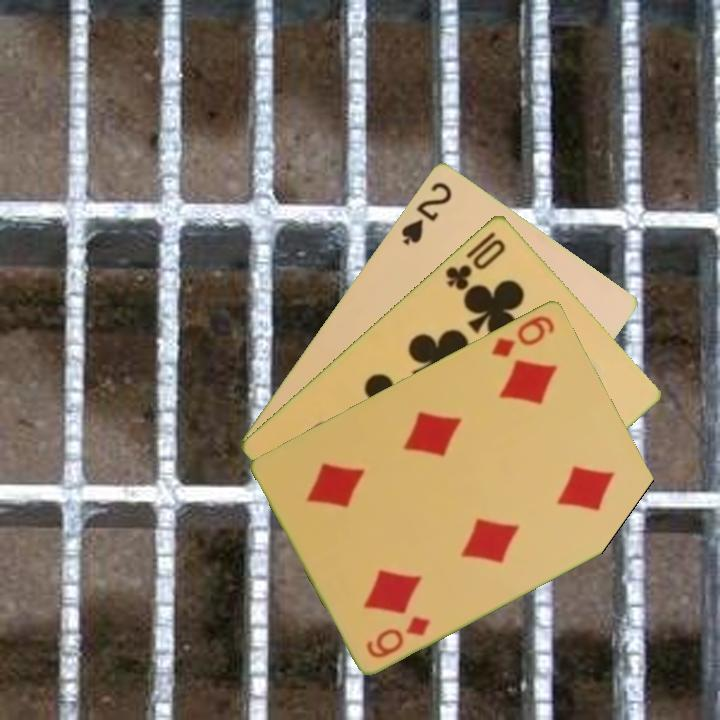10c: (441, 234, 509, 293)
2s: (397, 177, 455, 248)
6d: (362, 612, 433, 661), (488, 311, 558, 360)
